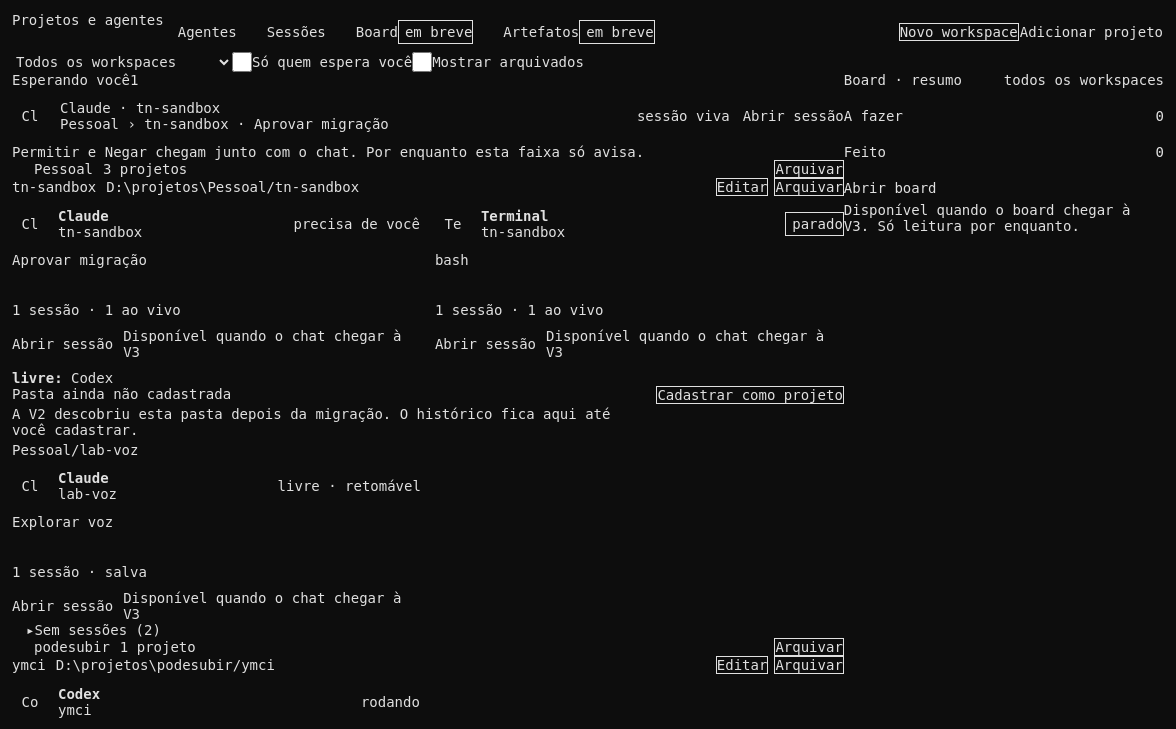
Projetos e agentes: Agentes tab › "Mostrar arquivados" reveals the archived project with its chip
Expected: the element named "Workspace Pessoal" is shown, [12,160,844,638]
Expected: the element "old" is not shown
Click the checkbox labelled "Mostrar arquivados": {"x": 422, "y": 62} [412,52,432,72]
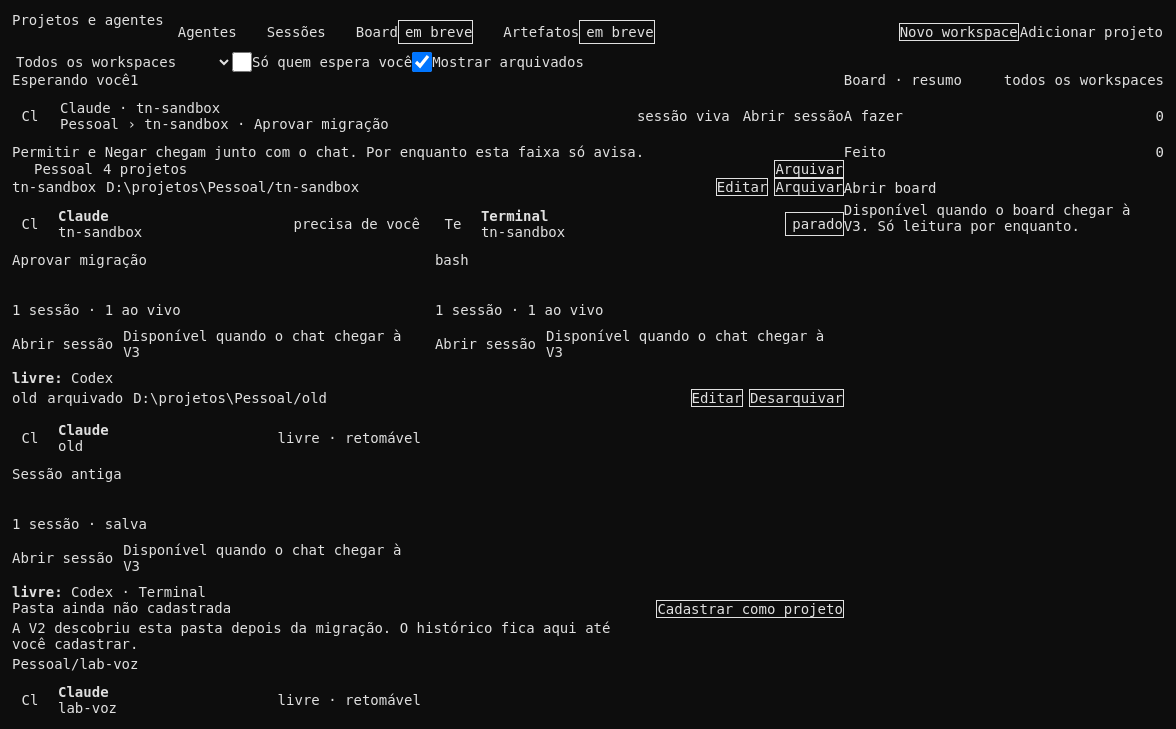
Result: the text "arquivado" is shown at [47,386,123,410]
Click the checkbox labelled "Mostrar arquivados": {"x": 422, "y": 62} [412,52,432,72]
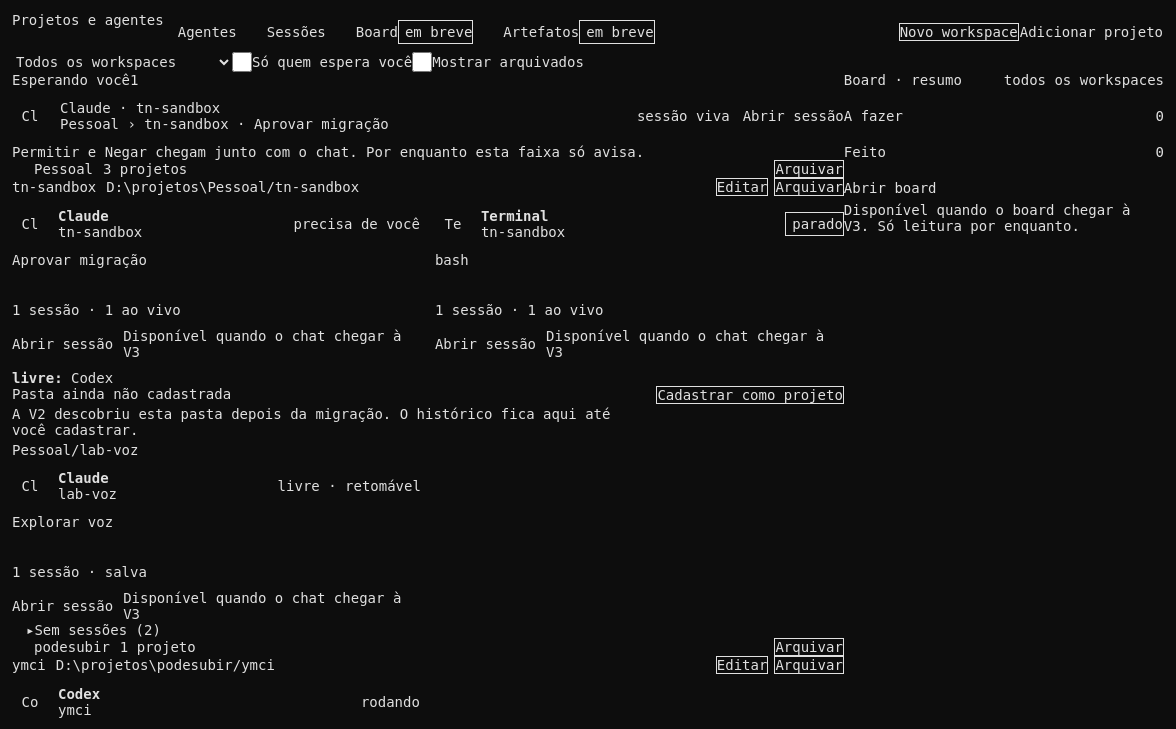
Result: the heading "old" is gone
